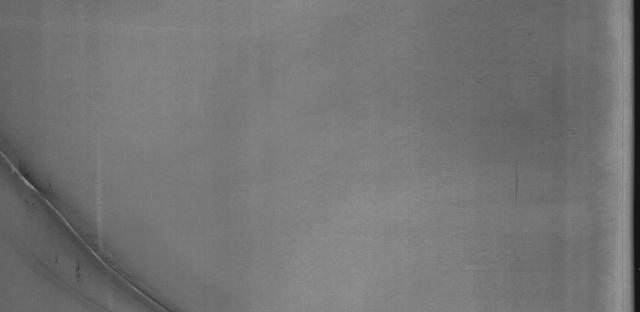crease: (6, 102, 197, 304)
